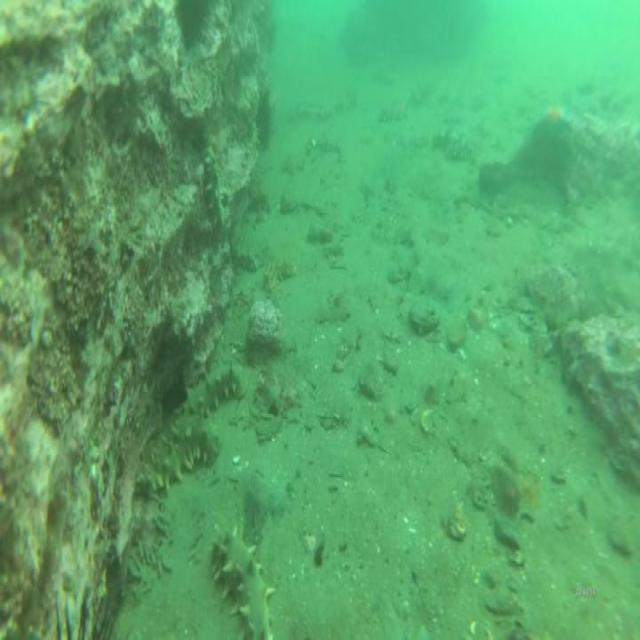echinus: (175, 0, 211, 44), (254, 84, 273, 156)
holothurian: (207, 524, 277, 640), (137, 417, 221, 495), (172, 359, 247, 420), (203, 142, 229, 232), (432, 122, 478, 166), (260, 250, 297, 292), (229, 245, 258, 273)
starfish: (528, 103, 578, 142)
